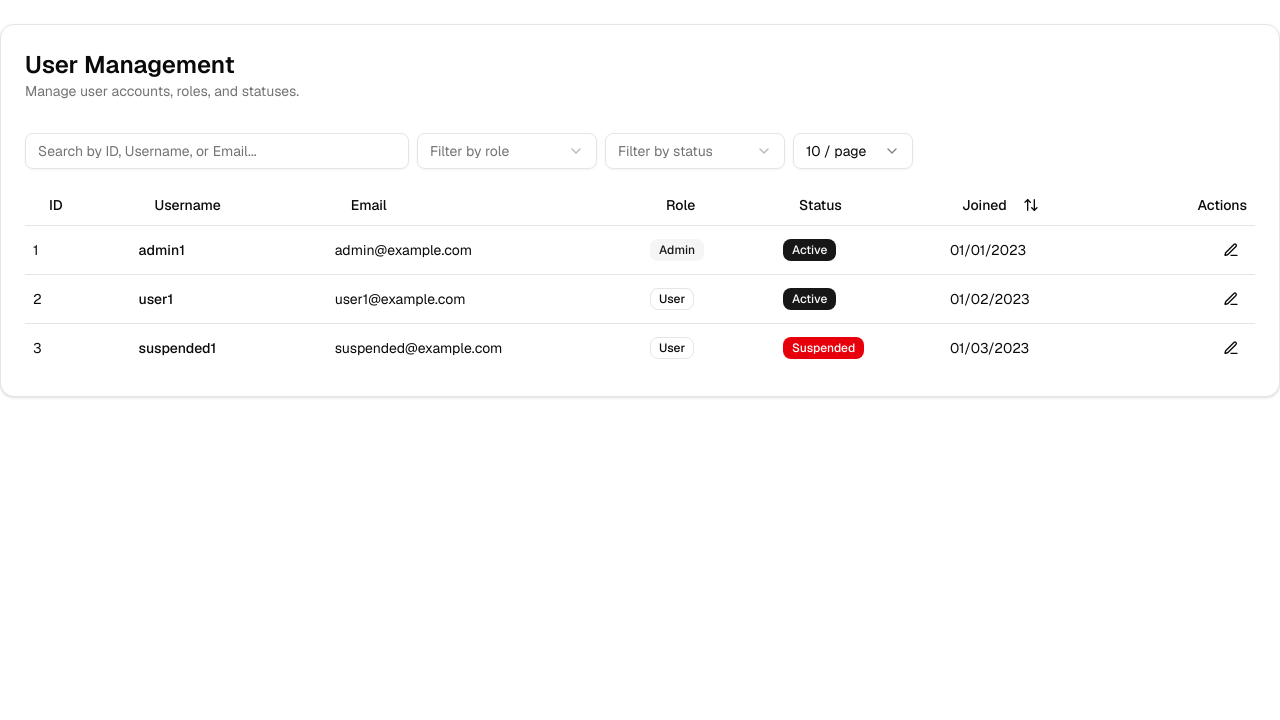
UserManagement Component › shows suspension confirmation dialog when suspend option is clicked
// Click on the edit button dropdown for a user
Step 1. Click the button named "open menu" in the row of "admin1" → (1231,250), box top-left (1215, 234), bottom-right (1247, 266)
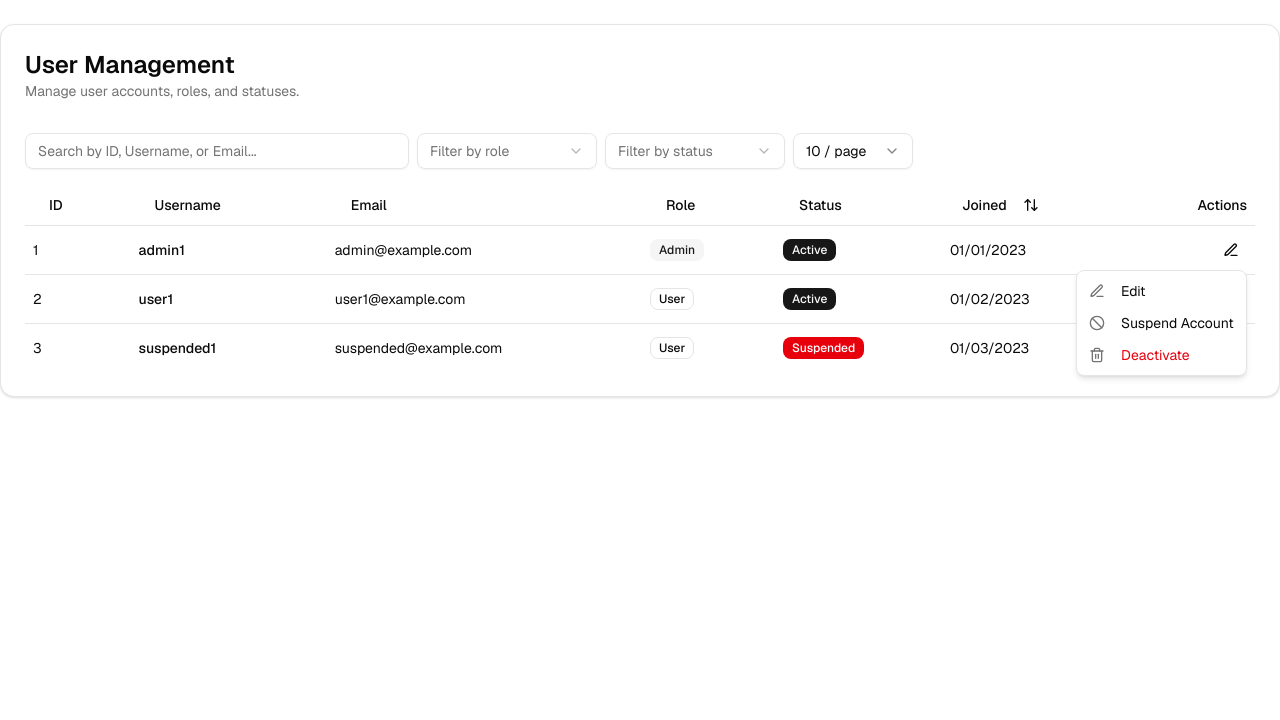
// Click on the Suspend option using the data-testid
Step 2. Click the menu item with test id "suspend-user-button" → (1161,323), box top-left (1089, 314), bottom-right (1234, 332)
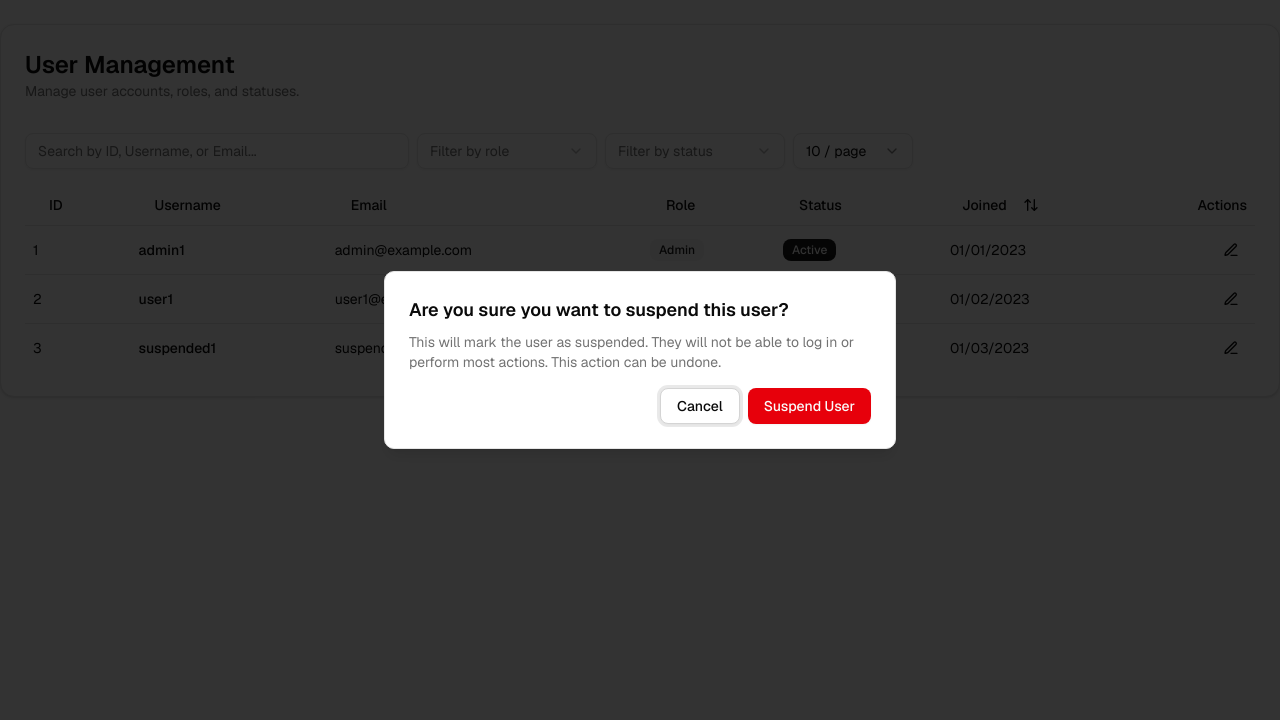
Now the heading "Are you sure you want to suspend this user?" is shown, box top-left (409, 298), bottom-right (789, 321)
